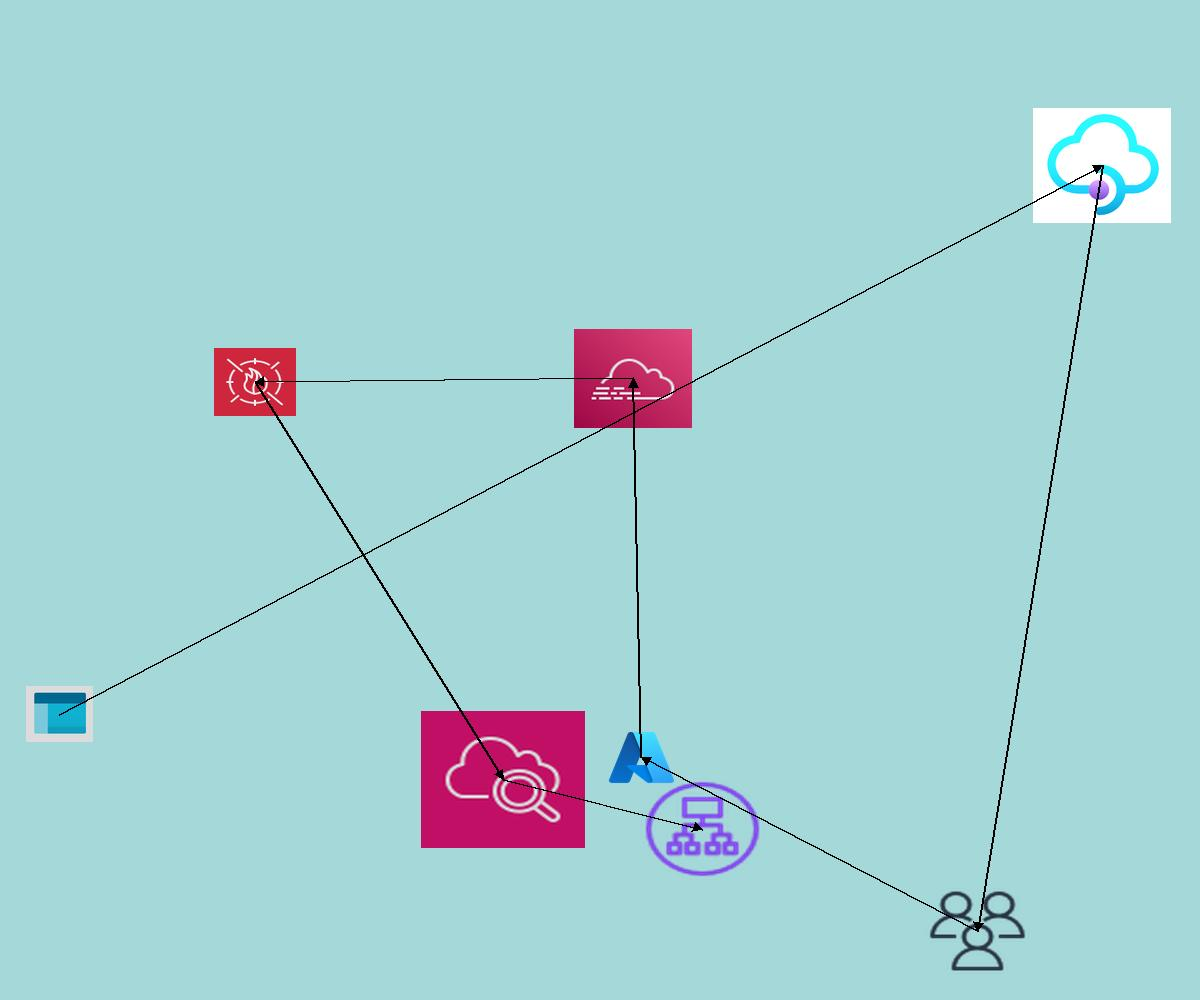AWS-CloudTrail: (574, 329, 692, 428)
AWS-CloudWatch: (421, 711, 585, 848)
AWS-Res_Elastic-Load-Balancing_Application-Load-Balancer: (641, 778, 764, 880)
AWS-Res_Users: (926, 888, 1029, 974)
AWS-WAF: (214, 348, 296, 416)
Azure_api_gateway: (1033, 108, 1171, 223)
Azure_management-portal: (26, 686, 93, 742)
Azure_services: (606, 728, 677, 787)
